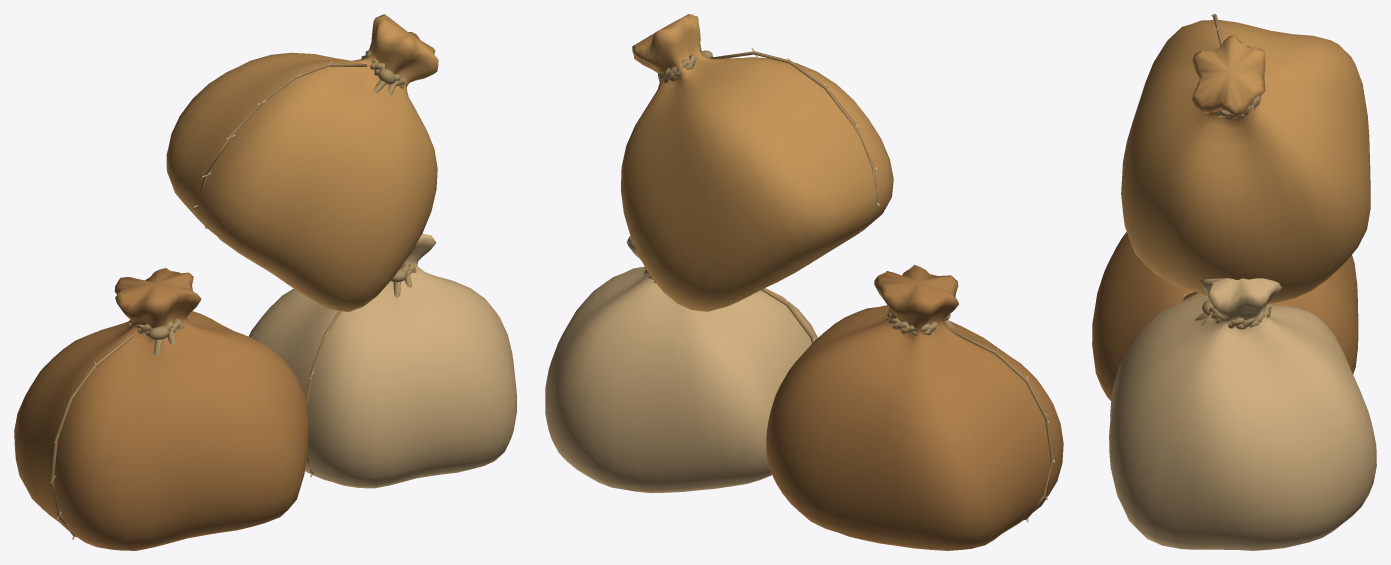
File: grain-sack-stack.glb
The picture shows the model from 3 angles, left to right: view 1: azimuth 30°, elevation 25°; view 2: azimuth 150°, elevation 25°; view 3: azimuth 270°, elevation 25°; orthographic projection. The views are drawn at different scales.
Visible parts, largest first — view 1: grain-sack-stack; view 2: grain-sack-stack; view 3: grain-sack-stack.
Boxes of the visible parts, x1,y1,x2,y2 form: grain-sack-stack: [14, 14, 516, 550]; grain-sack-stack: [545, 14, 1063, 550]; grain-sack-stack: [1092, 14, 1376, 550].
Size of the model in its own units: 1.51 by 1.36 by 0.7366.
